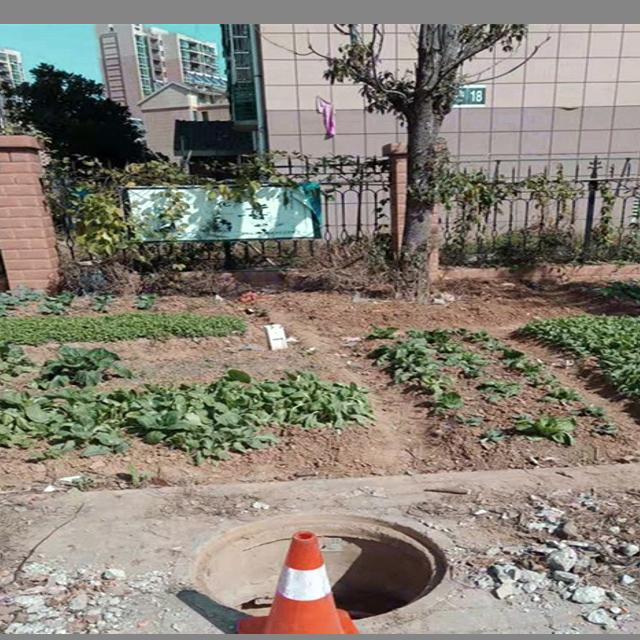lose: (173, 505, 461, 626)
